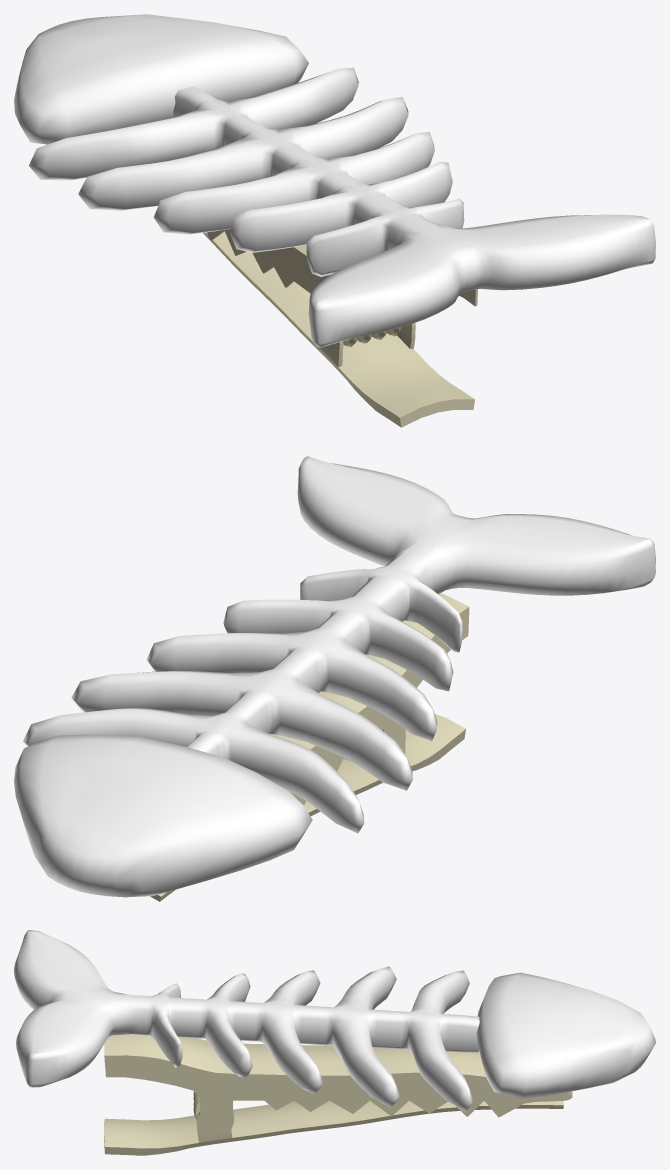
Rendered from faka2.fbx.
3 renders of one model, top to bottom at view 1: azimuth 30°, elevation 25°; view 2: azimuth 150°, elevation 25°; view 3: azimuth 270°, elevation 25°, orthographic. The views are drawn at different scales.
Parts seen in each view (by area): view 1: polySurface23, polySurface22, polySurface21, polySurface19; view 2: polySurface23, polySurface22, polySurface19, polySurface21; view 3: polySurface23, polySurface22, polySurface19, polySurface21.
Boxes of the visible parts, x1,y1,x2,y2 form: polySurface23: (29,67,655,347); polySurface22: (14,14,308,144); polySurface21: (203,231,474,427); polySurface19: (207,229,477,348); polySurface23: (23,456,655,833); polySurface22: (14,734,312,897); polySurface19: (270,593,469,804); polySurface21: (150,714,465,901); polySurface23: (14,930,479,1112); polySurface22: (476,972,655,1098); polySurface19: (104,1034,572,1133); polySurface21: (104,1101,563,1155).
Bounding box in the file's own units: 30.65 × 16.58 × 64.38.
